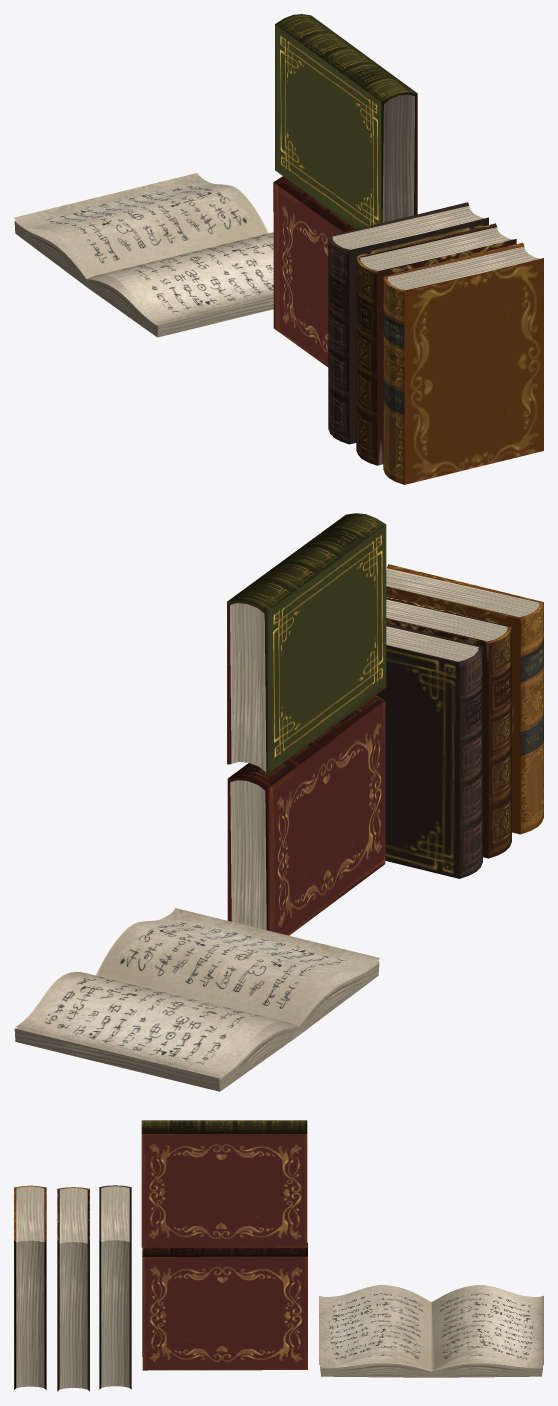
The picture shows the model from 3 angles, top to bottom: view 1: azimuth 30°, elevation 25°; view 2: azimuth 150°, elevation 25°; view 3: azimuth 270°, elevation 25°; orthographic projection. The views are drawn at different scales.
Visible parts, largest first — view 1: Books; view 2: Books; view 3: Books.
Part boxes in pixels (left/top/right/bottom): Books: left=14, top=14, right=543, bottom=484; Books: left=14, top=513, right=543, bottom=1091; Books: left=14, top=1120, right=543, bottom=1391.
Size of the model in its own units: 2.65 by 4.19 by 8.24.
Materials: 1 (1 with a texture image).
